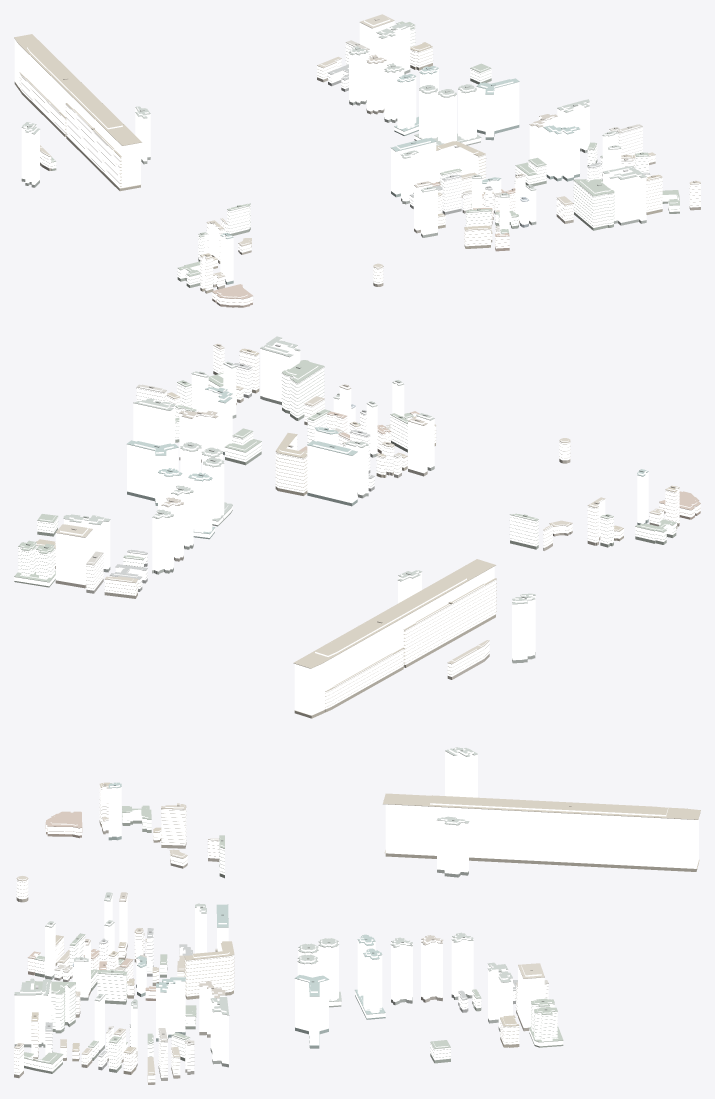
File: buildings-8_2-fine.glb
The picture shows the model from 3 angles, top to bottom: view 1: azimuth 30°, elevation 25°; view 2: azimuth 150°, elevation 25°; view 3: azimuth 270°, elevation 25°; orthographic projection. The views are drawn at different scales.
Visible parts, largest first — view 1: block_8_2_office, block_8_2_residential, block_8_2_roof, block_8_2_darkglass, block_8_2_concrete, block_8_2_steel; view 2: block_8_2_office, block_8_2_residential, block_8_2_roof, block_8_2_darkglass, block_8_2_concrete, block_8_2_steel; view 3: block_8_2_office, block_8_2_residential, block_8_2_roof, block_8_2_darkglass, block_8_2_concrete, block_8_2_steel.
Part boxes in pixels (box(x1,y1,x2,y2)): block_8_2_office: box(14, 18, 646, 281); block_8_2_residential: box(20, 23, 700, 305); block_8_2_roof: box(14, 14, 700, 305); block_8_2_darkglass: box(14, 63, 700, 307); block_8_2_concrete: box(20, 23, 700, 302); block_8_2_steel: box(14, 20, 646, 238); block_8_2_office: box(55, 338, 648, 715); block_8_2_residential: box(14, 345, 700, 708); block_8_2_roof: box(14, 336, 700, 715); block_8_2_darkglass: box(14, 371, 700, 718); block_8_2_concrete: box(14, 345, 700, 703); block_8_2_steel: box(55, 338, 648, 668); block_8_2_office: box(14, 748, 698, 1064); block_8_2_residential: box(14, 783, 563, 1082); block_8_2_roof: box(14, 747, 700, 1082); block_8_2_darkglass: box(14, 820, 697, 1084); block_8_2_concrete: box(14, 786, 563, 1079); block_8_2_steel: box(14, 749, 700, 1015).
Bounding box in the file's own units: 652 × 70.55 × 686.
